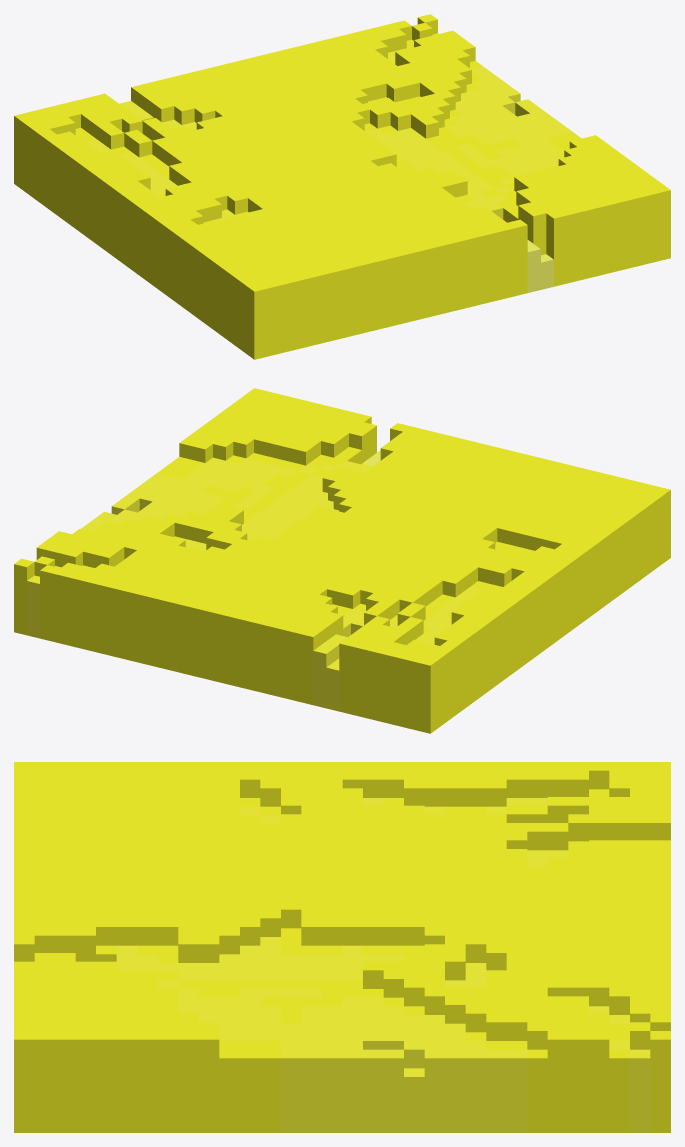
File: Destert Map-6.obj
3 views of the same model, one above another, from view 1: azimuth 30°, elevation 25°; view 2: azimuth 150°, elevation 25°; view 3: azimuth 270°, elevation 25° (orthographic). The views are drawn at different scales.
Size of the model in its own units: 3.2 by 0.5 by 3.2.
1 material, 1 textured.
